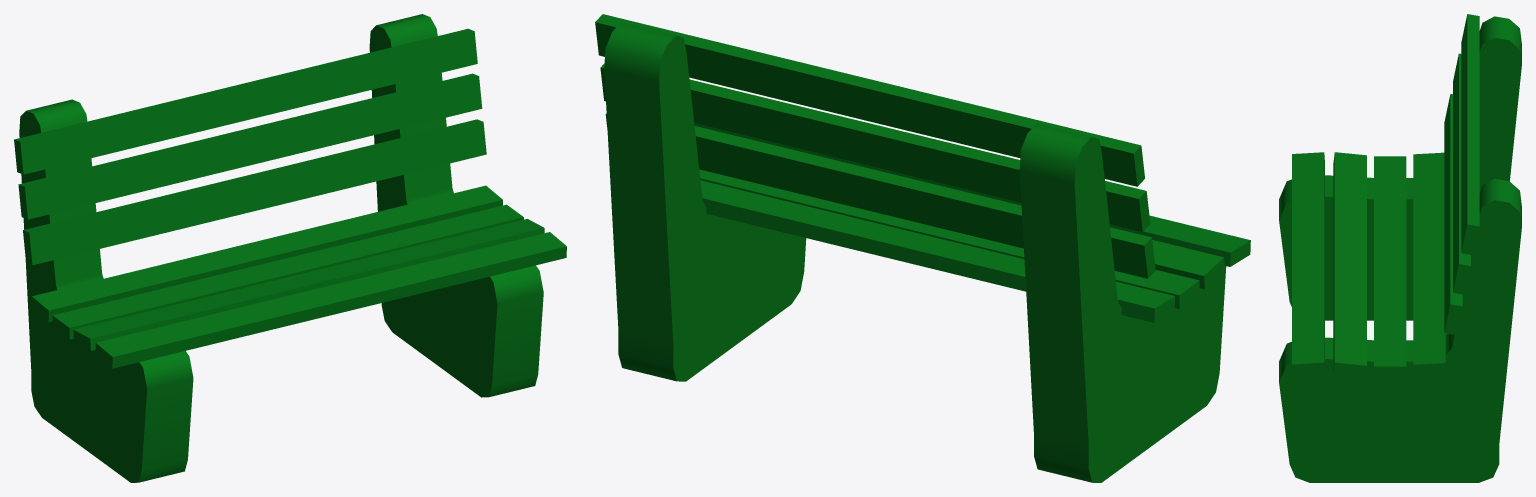
The model's file is mesh_ParkBench_v2.fbx.
3 views of the same model, side by side, from view 1: azimuth 30°, elevation 25°; view 2: azimuth 150°, elevation 25°; view 3: azimuth 270°, elevation 25° (orthographic). The views are drawn at different scales.
Visible parts, largest first — view 1: mesh_ParkBench_v2_0; view 2: mesh_ParkBench_v2_0; view 3: mesh_ParkBench_v2_0.
Part boxes in pixels (x1,y1,x2,y2): mesh_ParkBench_v2_0: [14, 14, 566, 482]; mesh_ParkBench_v2_0: [595, 14, 1250, 482]; mesh_ParkBench_v2_0: [1279, 14, 1521, 482].
Bounding box in the file's own units: 122 × 76.33 × 59.4.
